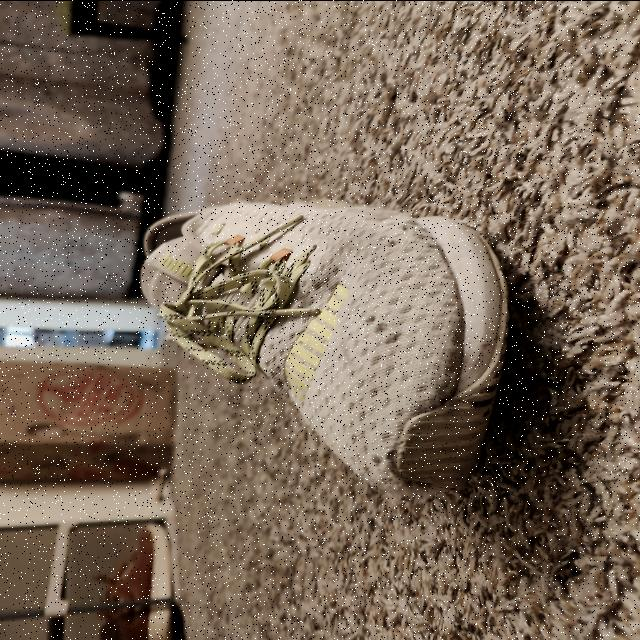white shoes: (160, 216, 508, 482)
